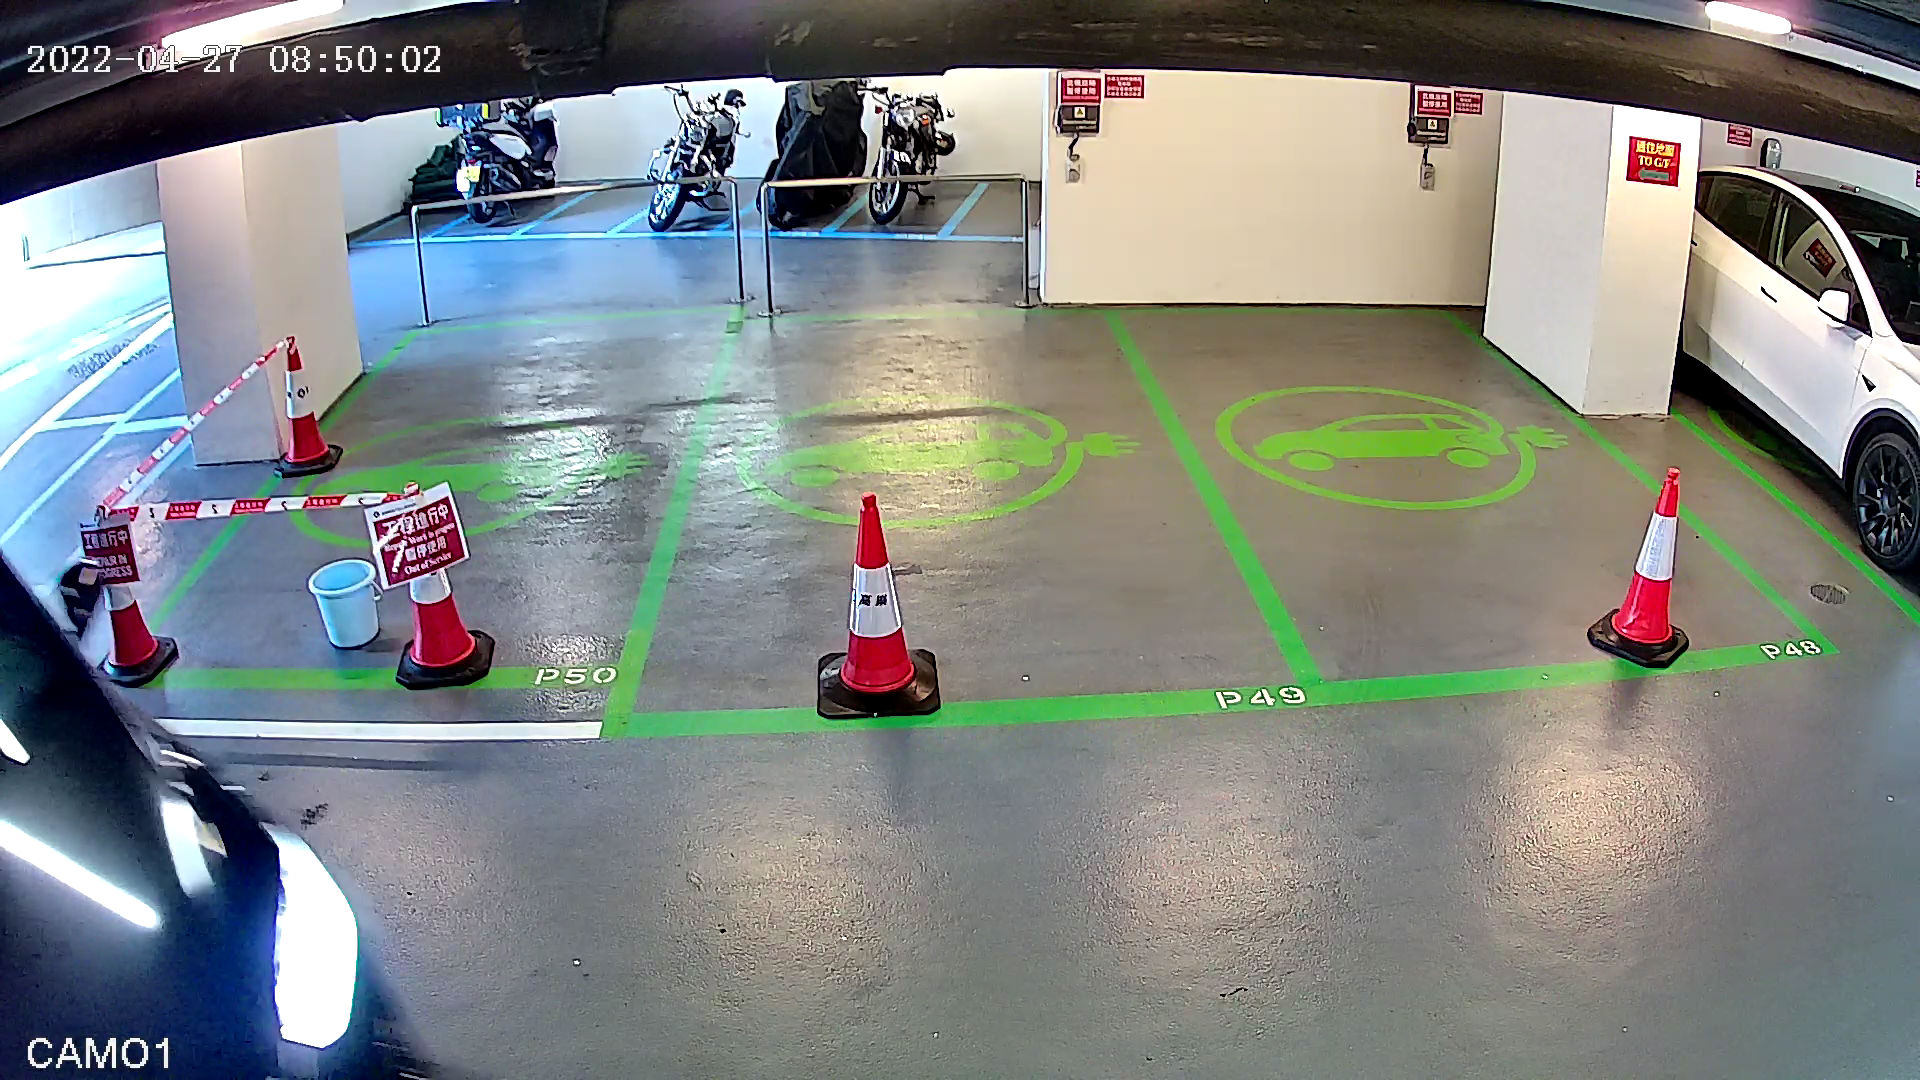space: (587, 285, 1356, 748), (1093, 270, 1869, 717)
